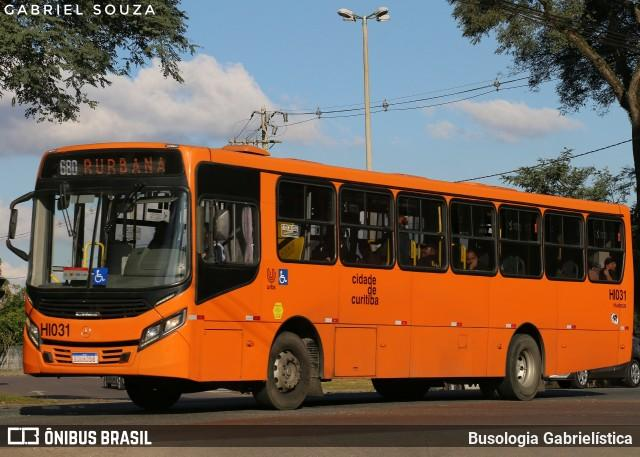RURBANA: (79, 155, 169, 180)
